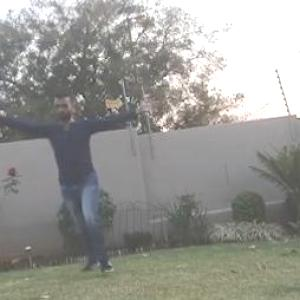takeoff: (2, 90, 166, 283)
